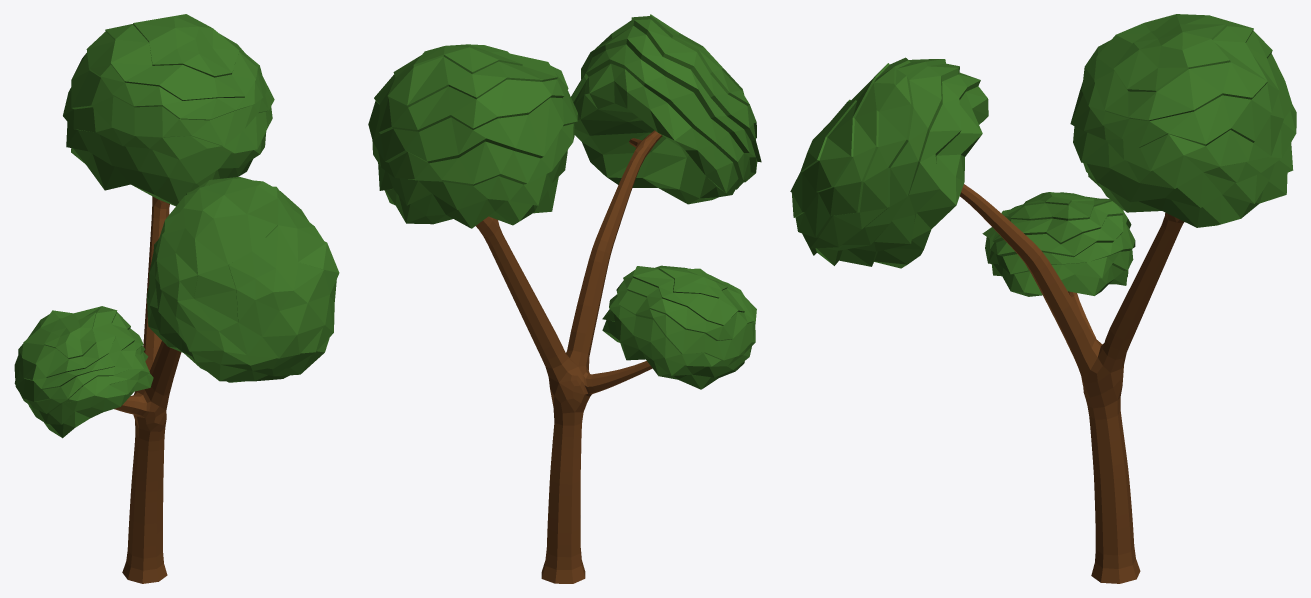
Rendered from LP small Bush tree TREE ST1.fbx.
The picture shows the model from 3 angles, left to right: view 1: azimuth 30°, elevation 25°; view 2: azimuth 150°, elevation 25°; view 3: azimuth 270°, elevation 25°; orthographic projection. The views are drawn at different scales.
Visible parts, largest first — view 1: TreeTrunkS; view 2: TreeTrunkS; view 3: TreeTrunkS.
Boxes of the visible parts, left/top/right/bottom form: TreeTrunkS: left=14, top=14, right=339, bottom=583; TreeTrunkS: left=368, top=14, right=761, bottom=583; TreeTrunkS: left=790, top=14, right=1296, bottom=583.
Size of the model in its own units: 305 by 508 by 405.
